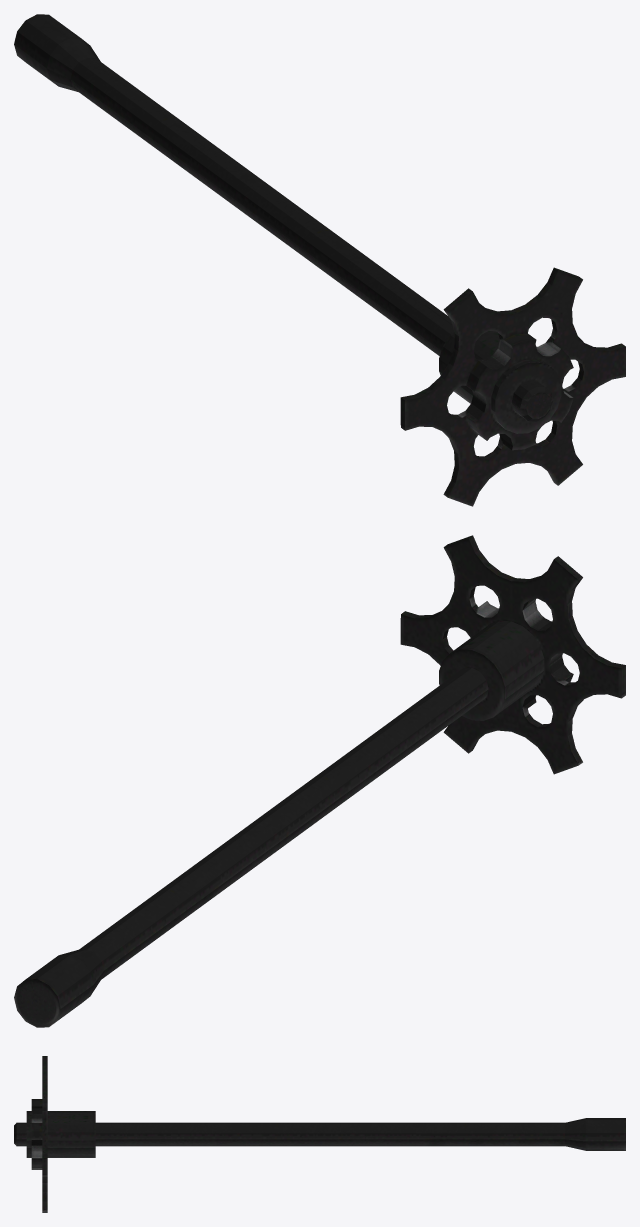
The picture shows the model from 3 angles, top to bottom: view 1: azimuth 30°, elevation 25°; view 2: azimuth 150°, elevation 25°; view 3: azimuth 270°, elevation 25°; orthographic projection. The views are drawn at different scales.
Visible parts, largest first — view 1: TW_624c2e8614da335f1e034d8c_PZ_Import; view 2: TW_624c2e8614da335f1e034d8c_PZ_Import; view 3: TW_624c2e8614da335f1e034d8c_PZ_Import.
Part boxes in pixels (box(x1,y1,x2,y2)): TW_624c2e8614da335f1e034d8c_PZ_Import: box(14, 14, 625, 506); TW_624c2e8614da335f1e034d8c_PZ_Import: box(14, 535, 625, 1027); TW_624c2e8614da335f1e034d8c_PZ_Import: box(14, 1056, 625, 1212).
Bounding box in the file's own units: 0.0137 × 0.0539 × 0.0128.
Materials: 1 (1 with a texture image).
